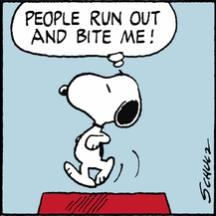snoopy: (56, 68, 142, 188)
